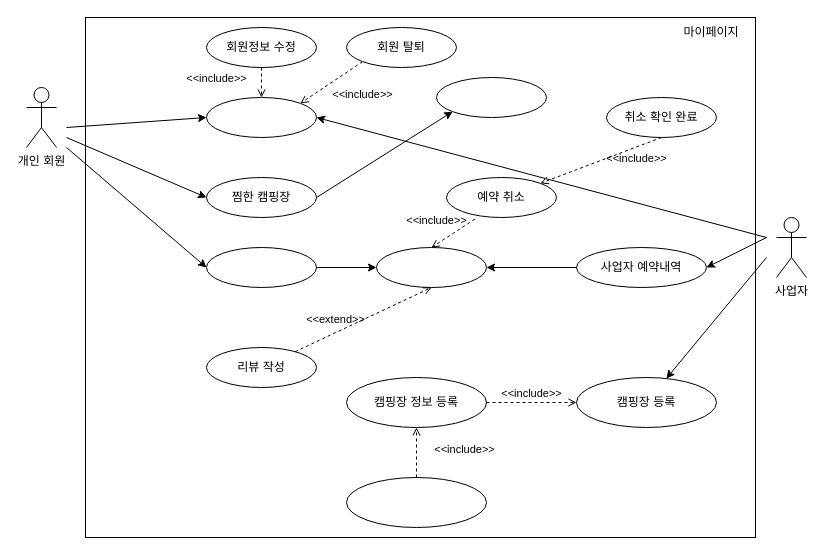
Image size: 825x555. Some labels were removed from this diagram. Here are the shapes that lost their labels. From the top down, the centre of each, then its label:
At (261,117): "회원정보".
At (491,97): "상세 페이지".
At (261,267): "회원 예약내역".
At (431,267): "입금완료".
At (416,502): "객실 정보 등록".
